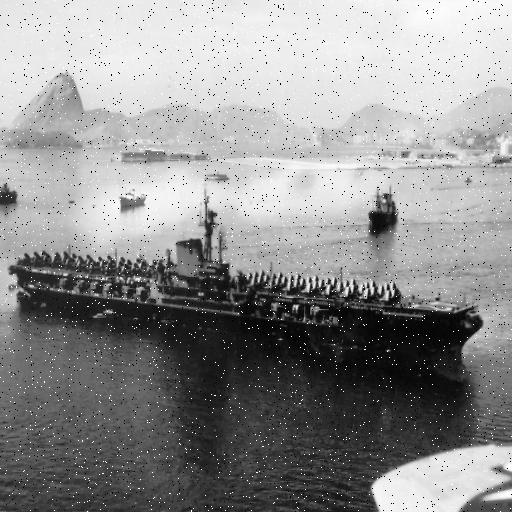Portanaves: (11, 183, 488, 384)
